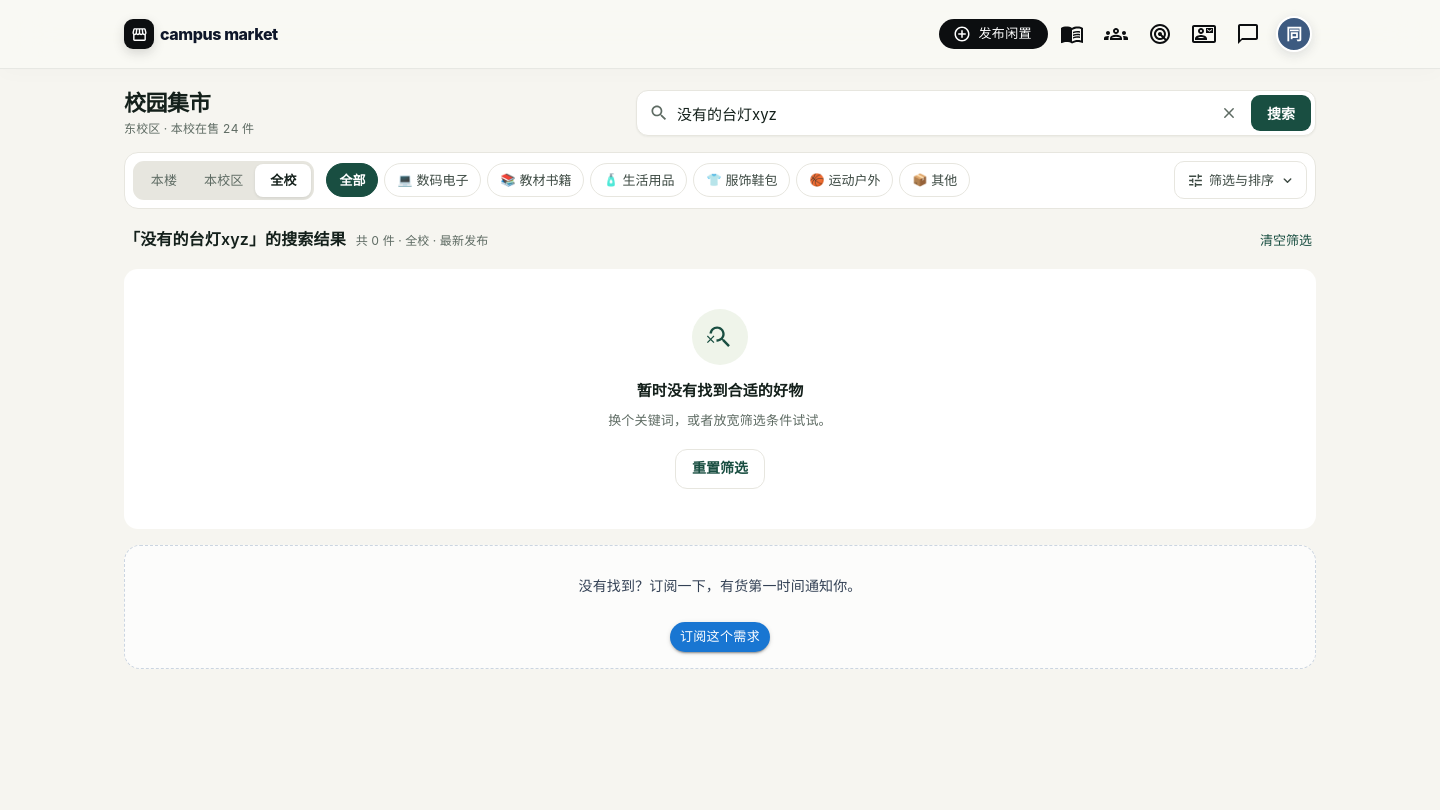
Test: 2.5 搜索空态订阅入口 › 2. 已登录：预填当前关键词，确认后创建；再次提交同条件提示「已订阅」
The width and height of the screenshot is (1440, 810).
What coordinates should you click on to do the following:
click the button "订阅这个需求"
I would click on:
 (720, 637)
Its box is [670, 622, 770, 652].
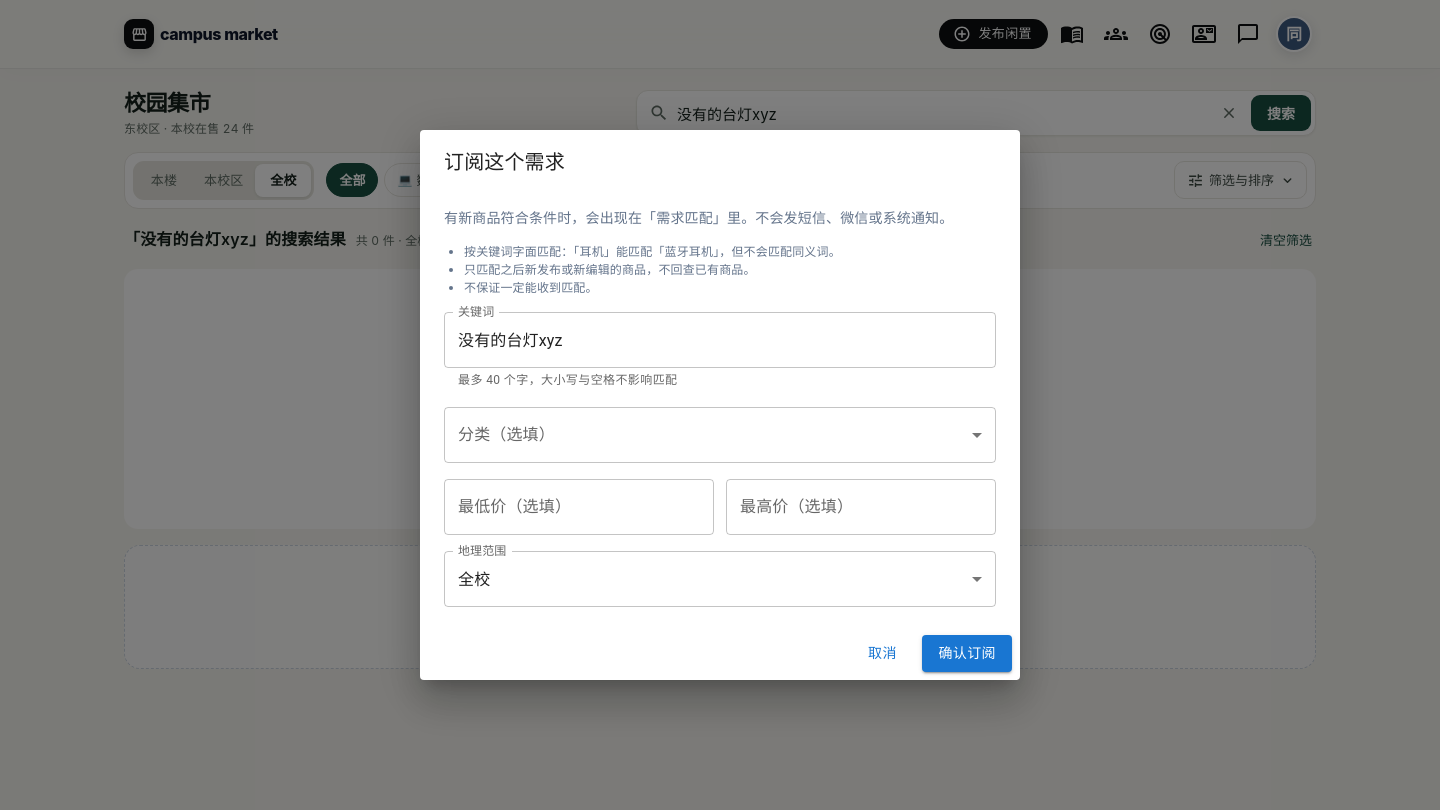
Result: the field labelled "关键词" holds "没有的台灯xyz" at [444, 312, 996, 368]
What coordinates should you click on to do the following:
click the button "确认订阅"
I would click on:
 (967, 653)
Its box is [922, 635, 1012, 672].
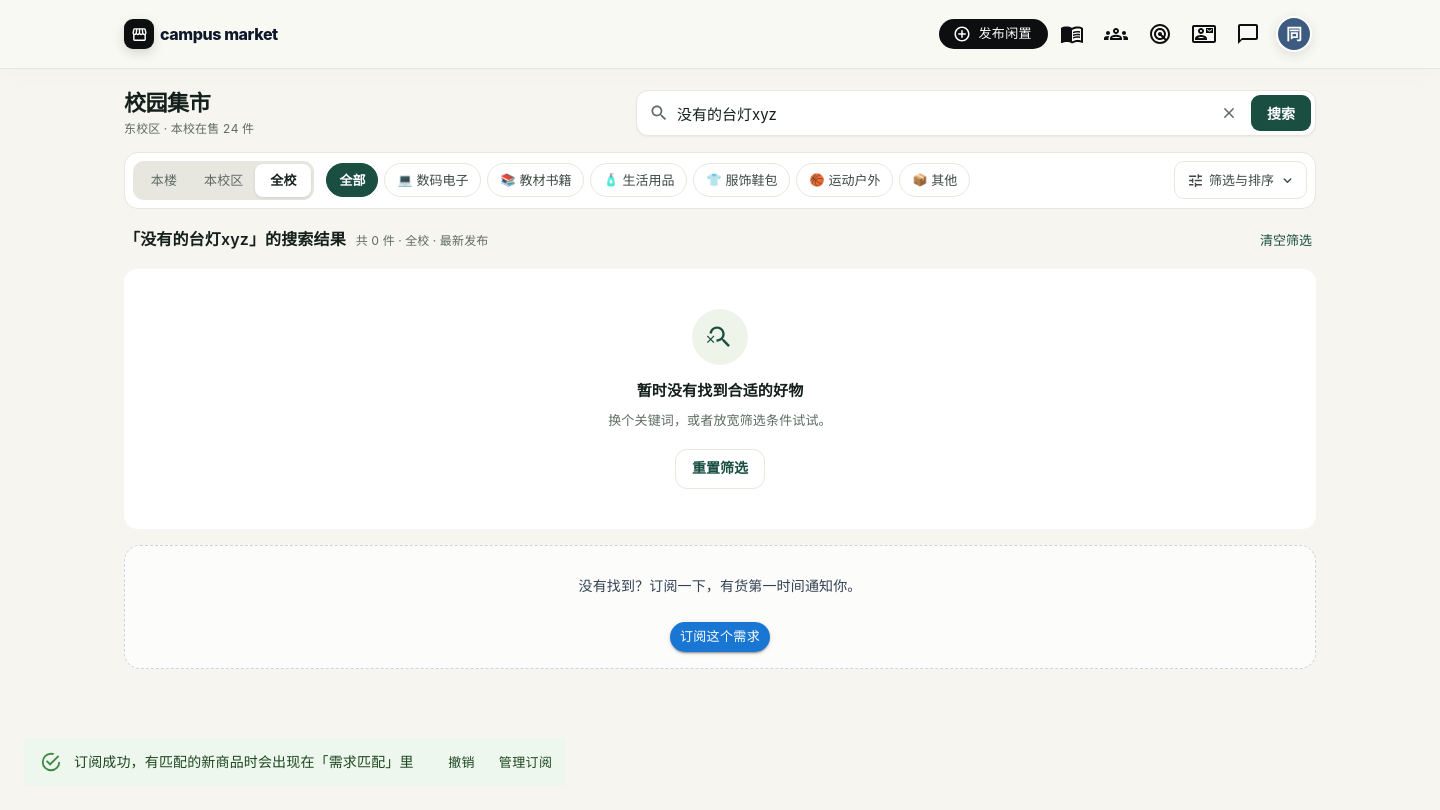
Result: the text "订阅成功，有匹配的新商品时会出现在「需求匹配」里" is shown at [74, 754, 414, 770]
对话框关闭动画期间 MUI 仍会给背景加 aria-hidden，这里等它结束
What coordinates should you click on to do the following:
click the button "订阅这个需求"
I would click on:
 (720, 637)
Its box is [670, 622, 770, 652].
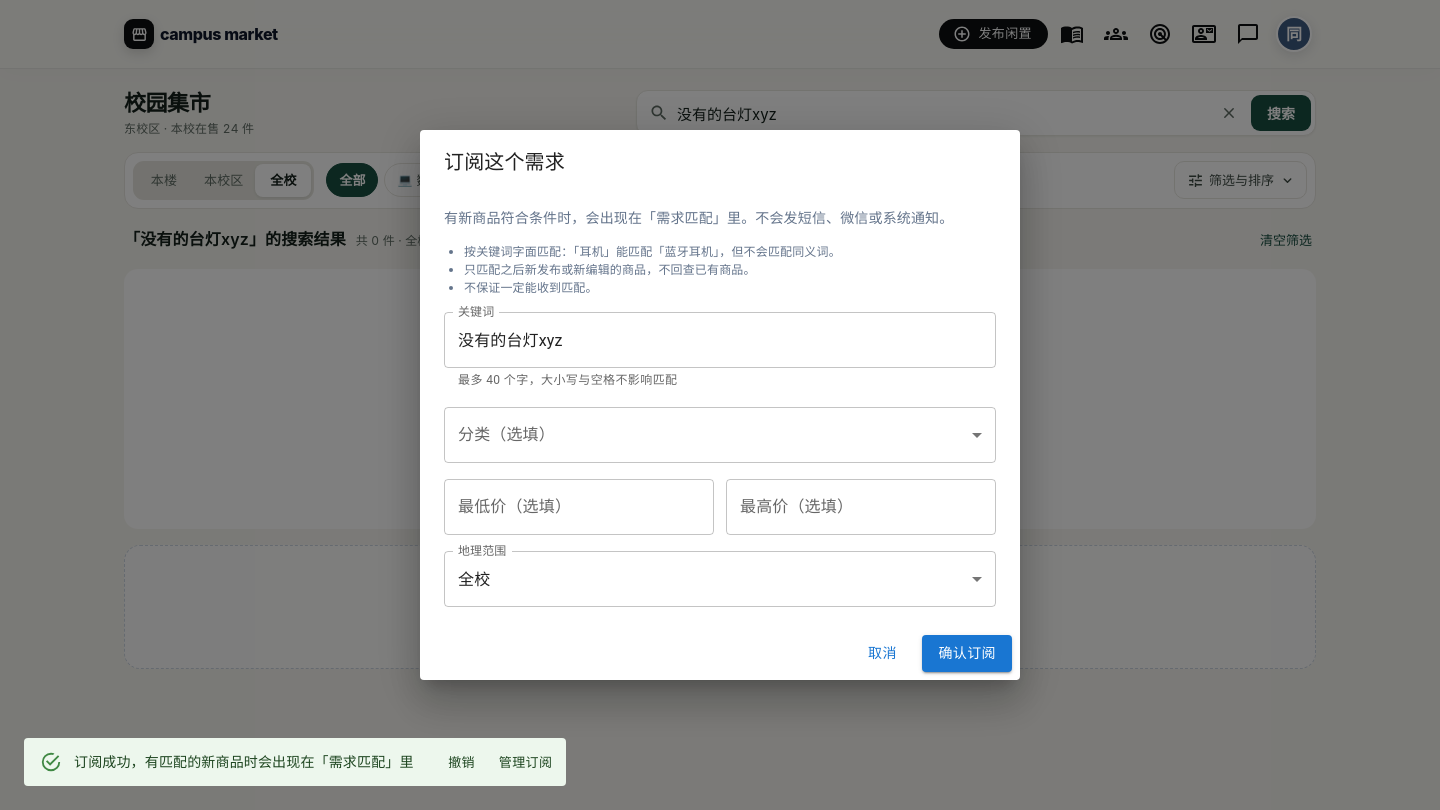
What coordinates should you click on to do the following:
click the button "确认订阅"
I would click on:
 (967, 653)
Its box is [922, 635, 1012, 672].
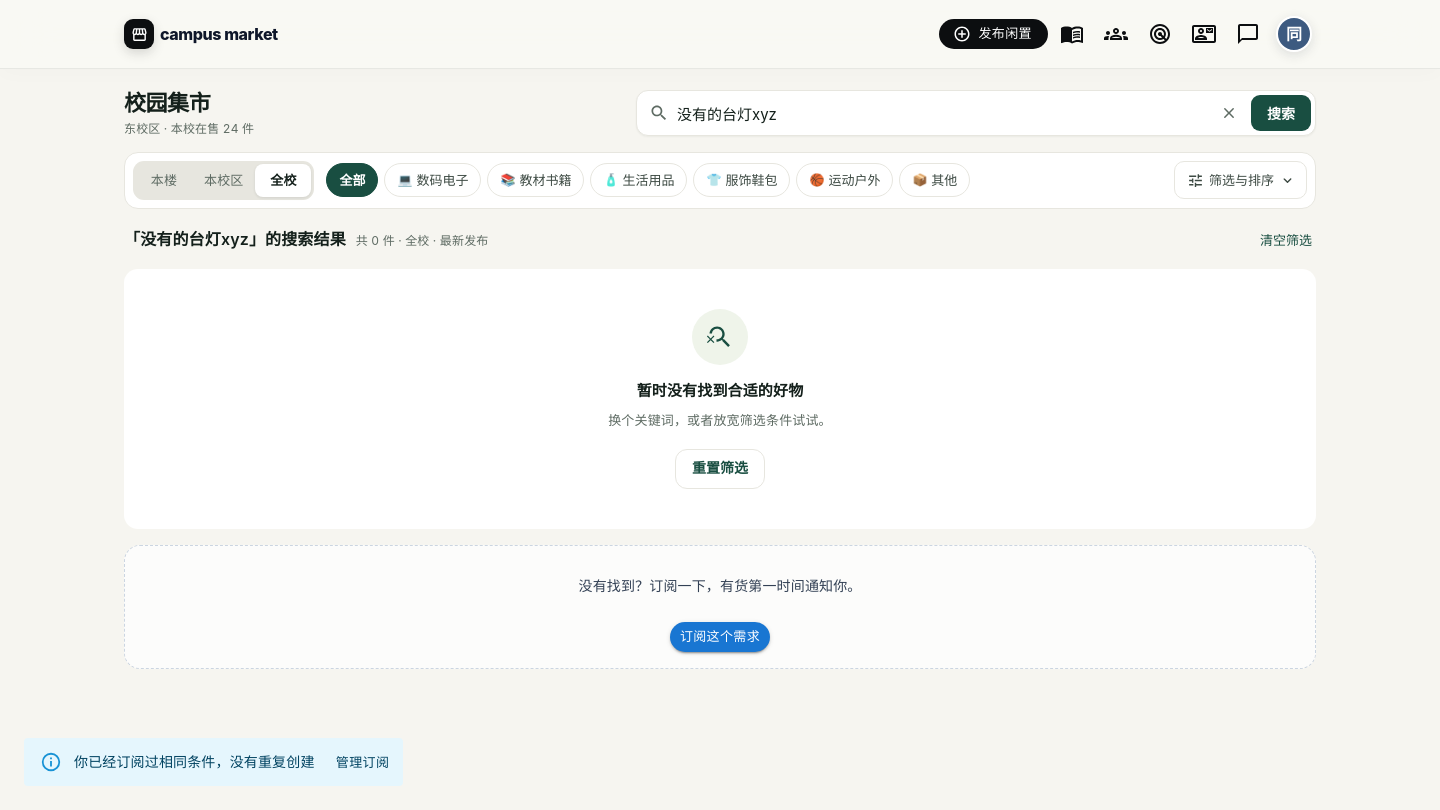
Result: the text "你已经订阅过相同条件，没有重复创建" is shown at [74, 754, 315, 770]
